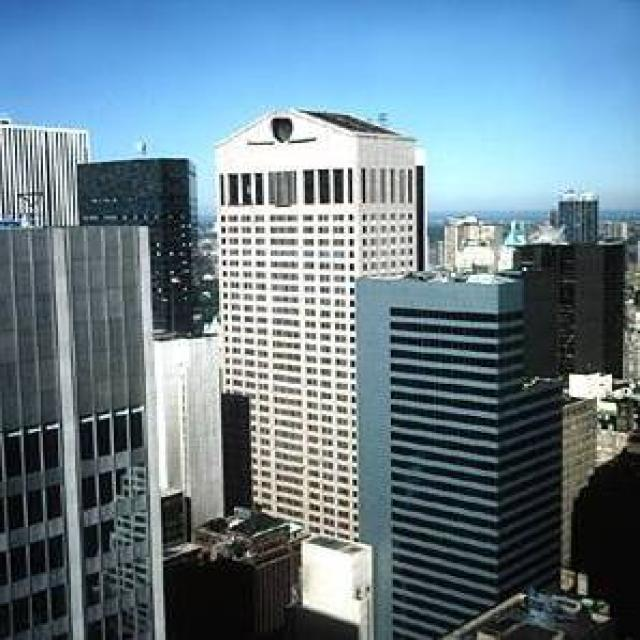building: (219, 105, 426, 537), (356, 272, 562, 640), (0, 226, 166, 640), (76, 138, 200, 334), (158, 490, 300, 640), (152, 338, 220, 538), (0, 110, 91, 228)
